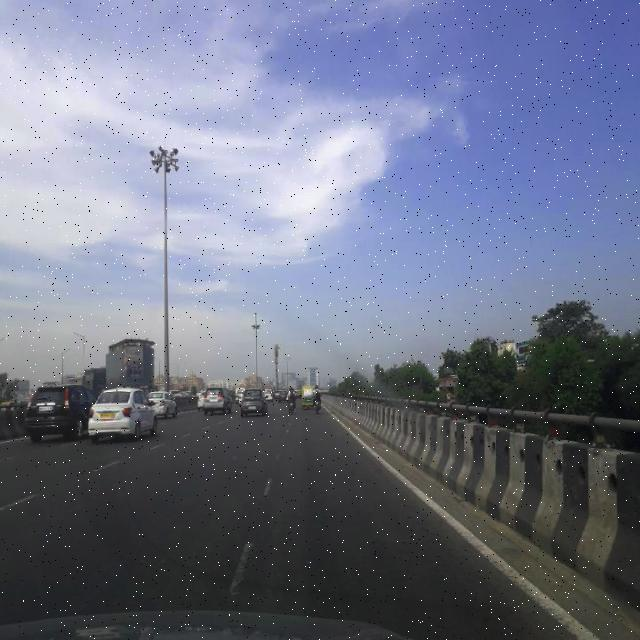D44: (222, 535, 262, 598)
